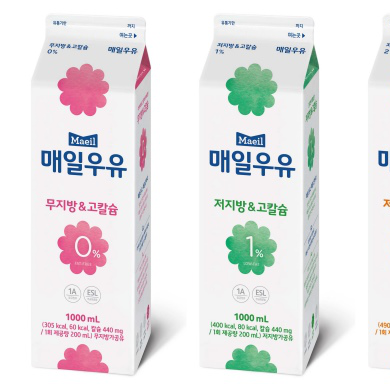milk: (197, 13, 320, 374), (30, 13, 152, 373), (365, 15, 389, 371)
